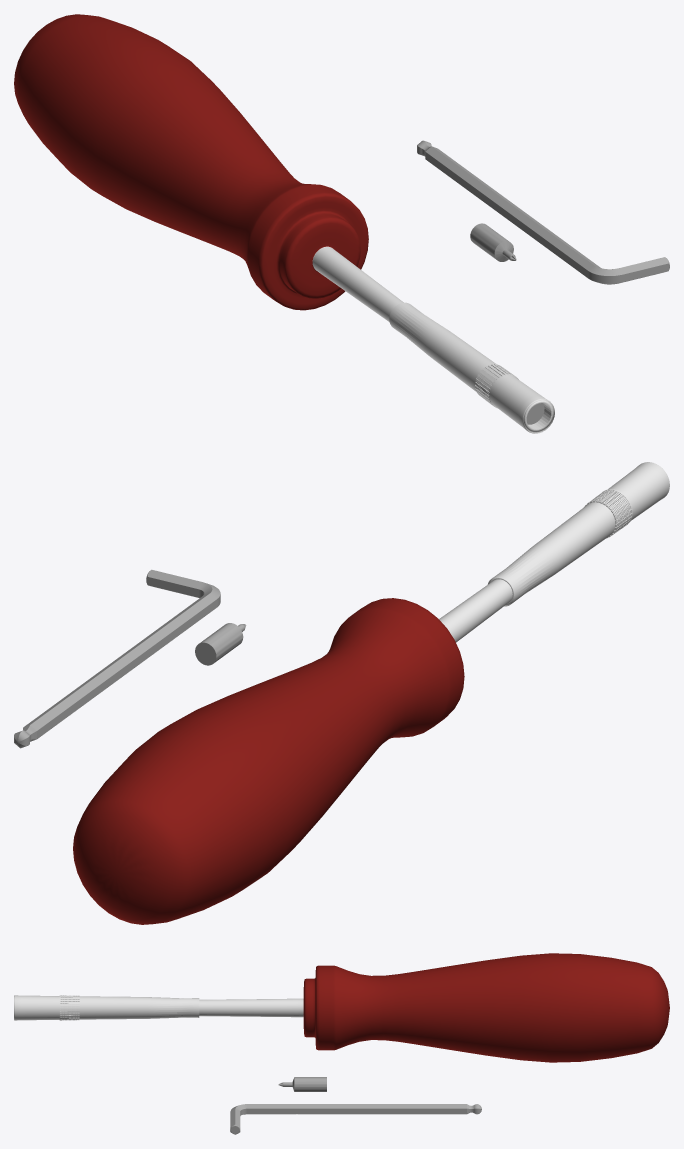
Rendered from tools.fbx.
3 views of the same model, one above another, from view 1: azimuth 30°, elevation 25°; view 2: azimuth 150°, elevation 25°; view 3: azimuth 270°, elevation 25° (orthographic). The views are drawn at different scales.
Visible parts, largest first — view 1: polySurface25, L:Verrundung240, polySurface26; view 2: polySurface25, L:Verrundung240, polySurface26; view 3: polySurface25, L:Verrundung240, polySurface26.
Part boxes in pixels (x1=…): polySurface25: x1=14, y1=14, x2=554, y2=433; L:Verrundung240: x1=417, y1=140, x2=669, y2=284; polySurface26: x1=470, y1=223, x2=516, y2=261; polySurface25: x1=73, y1=462, x2=669, y2=924; L:Verrundung240: x1=14, y1=569, x2=220, y2=748; polySurface26: x1=195, y1=623, x2=246, y2=665; polySurface25: x1=14, y1=953, x2=669, y2=1062; L:Verrundung240: x1=230, y1=1104, x2=481, y2=1134; polySurface26: x1=278, y1=1077, x2=326, y2=1091.
Size of the model in its own units: 4.48 by 1.74 by 10.44.
